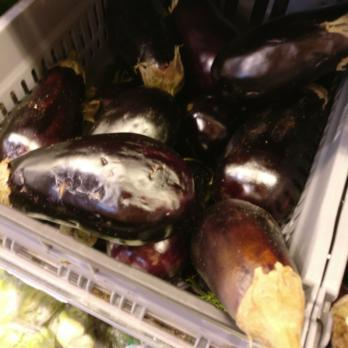Brinjal: (91, 0, 306, 238), (0, 55, 87, 221), (198, 242, 308, 348)
